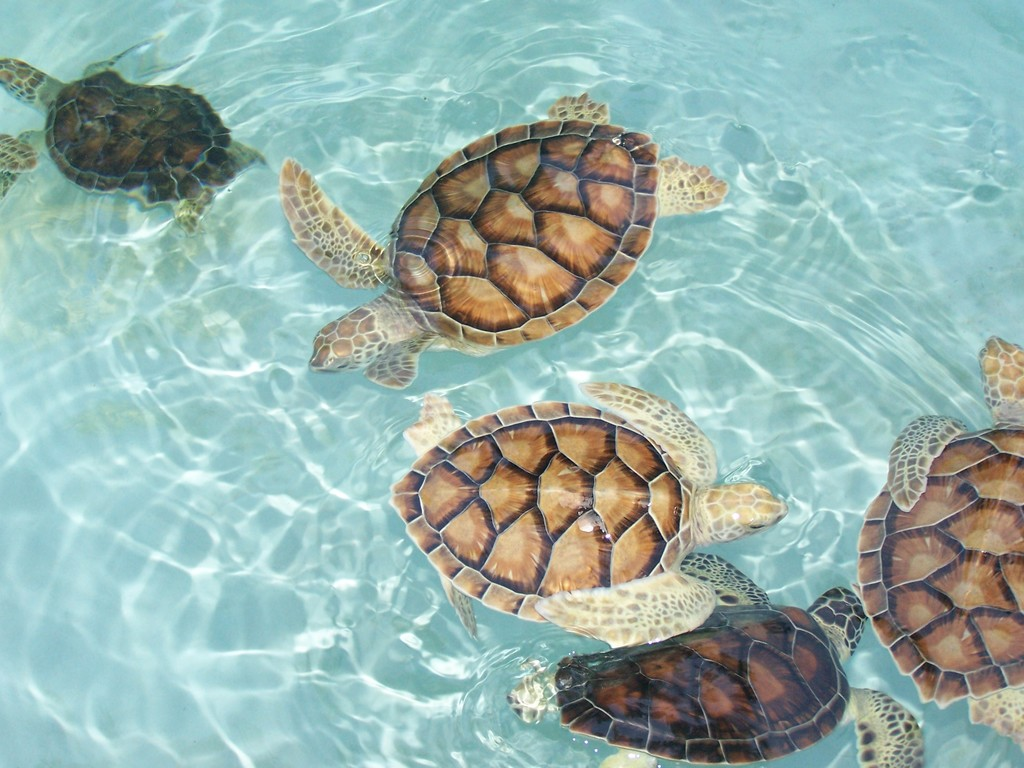Sea turtles: (275, 92, 728, 387), (384, 373, 797, 638), (509, 544, 922, 767), (853, 336, 1023, 747), (0, 53, 266, 231)
